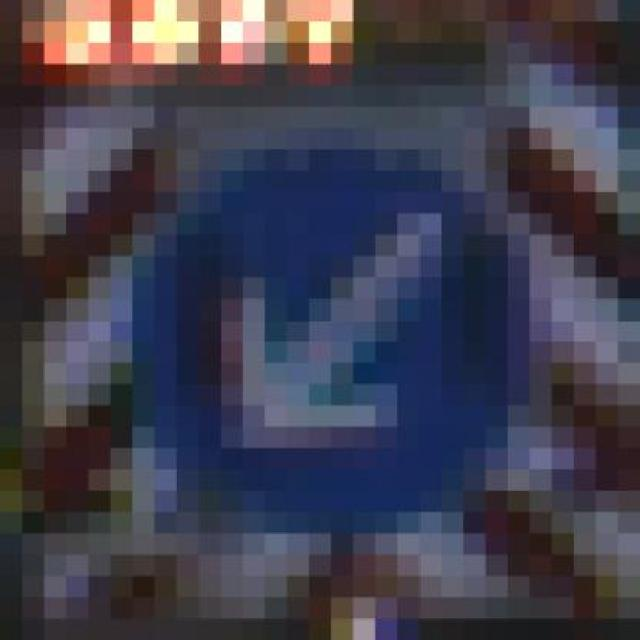Keep-Left: (110, 107, 552, 555)
